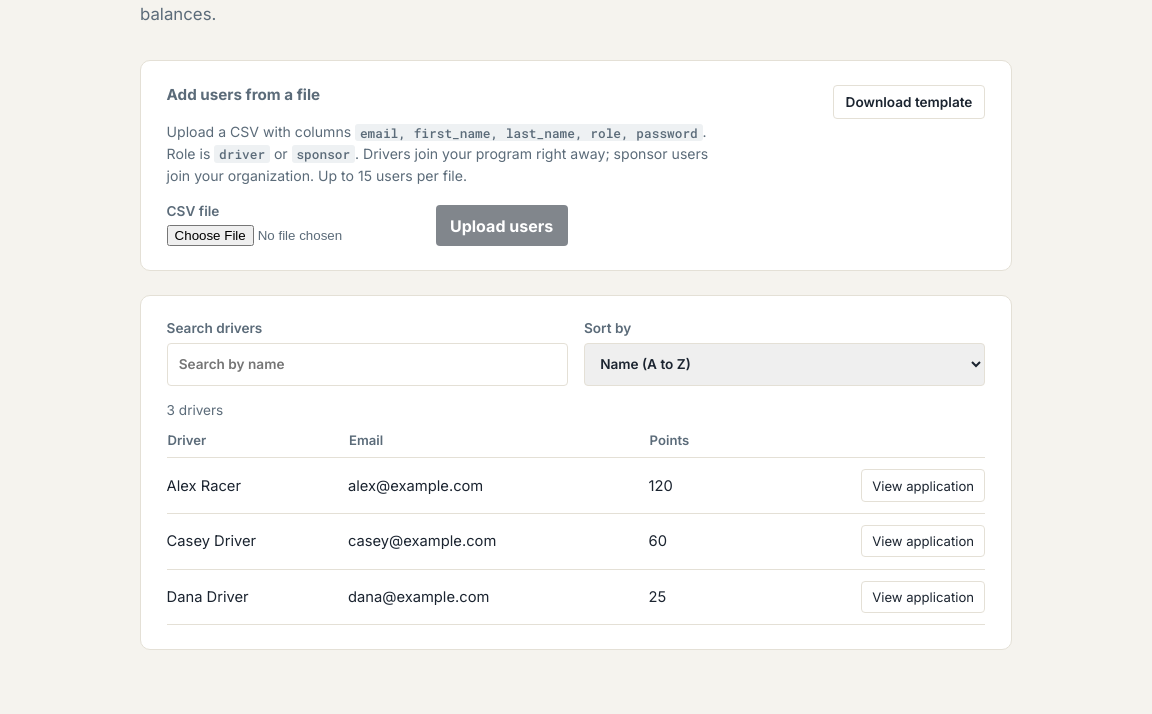
Test: loads this sponsor’s point rules and updates a driver balance after an adjustment
The width and height of the screenshot is (1152, 714).
(page scrolled)
Click the button "View application" in the row of "Racer". click: (923, 486)
box: x1=861 y1=469 x2=985 y2=502
(page scrolled)
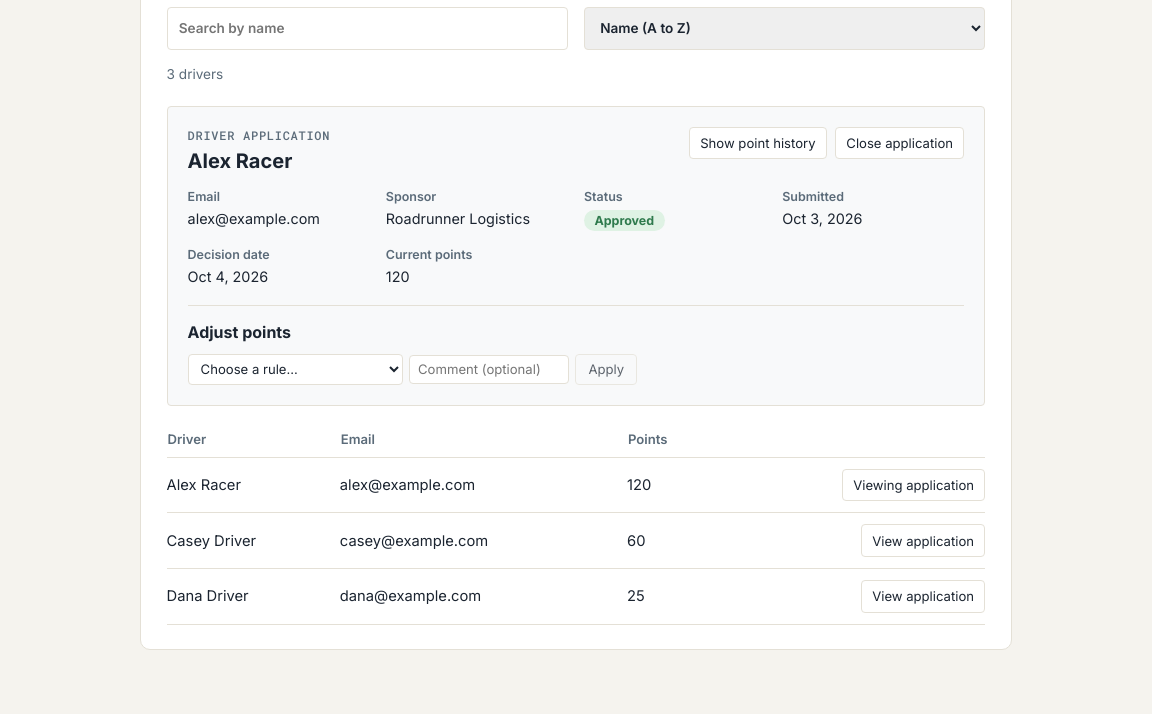
Select "Safe driving bonus (+20 pts)" in the dropdown named "Point rule". click: (295, 369)
box: x1=188 y1=354 x2=403 y2=385
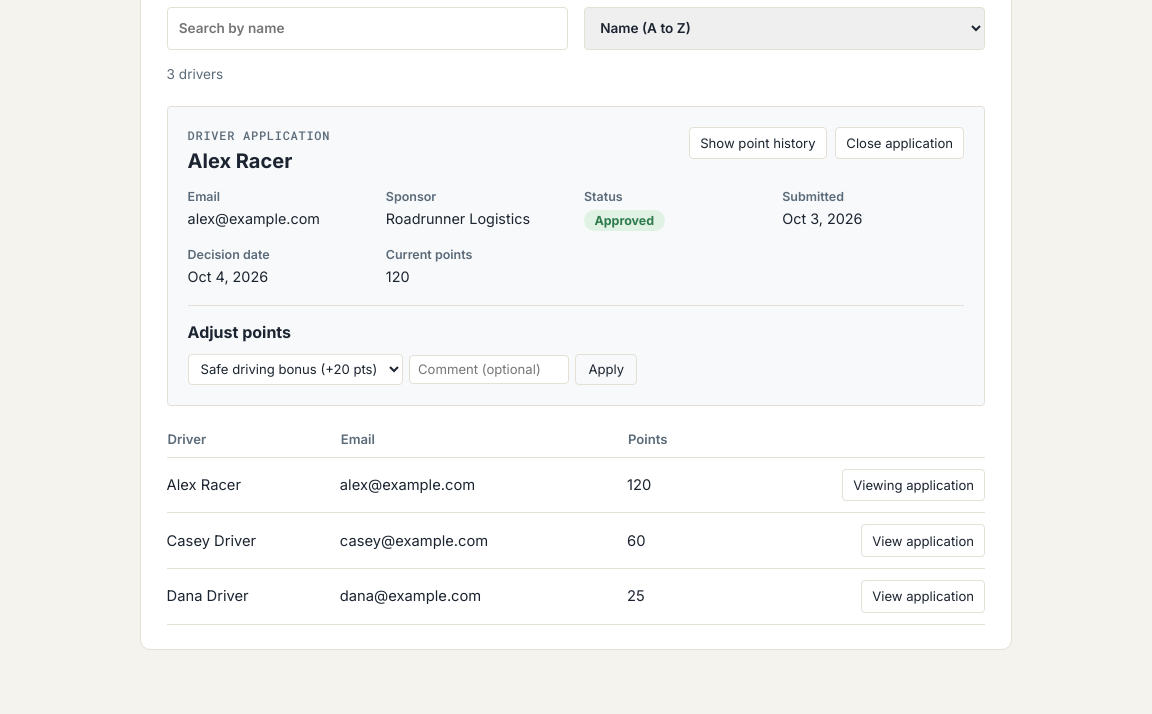
Click the button "Apply". click: (606, 369)
box: x1=575 y1=354 x2=637 y2=385
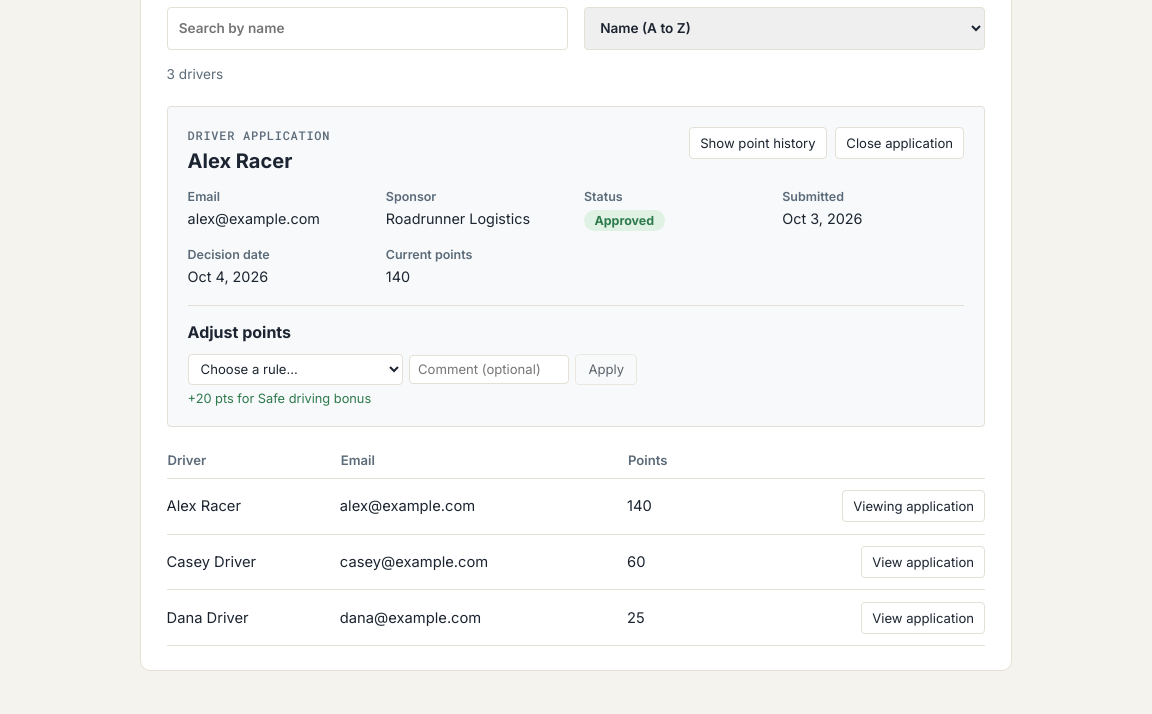
Now the message reads "+20 pts for Safe driving bonus", box x1=188 y1=391 x2=371 y2=406
Now the text "140" is shown, box x1=386 y1=268 x2=410 y2=285
